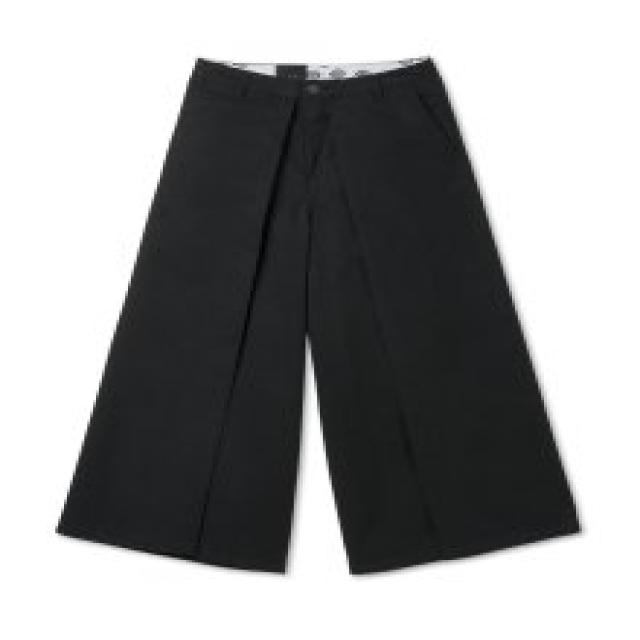long-pants: (52, 52, 585, 581)
